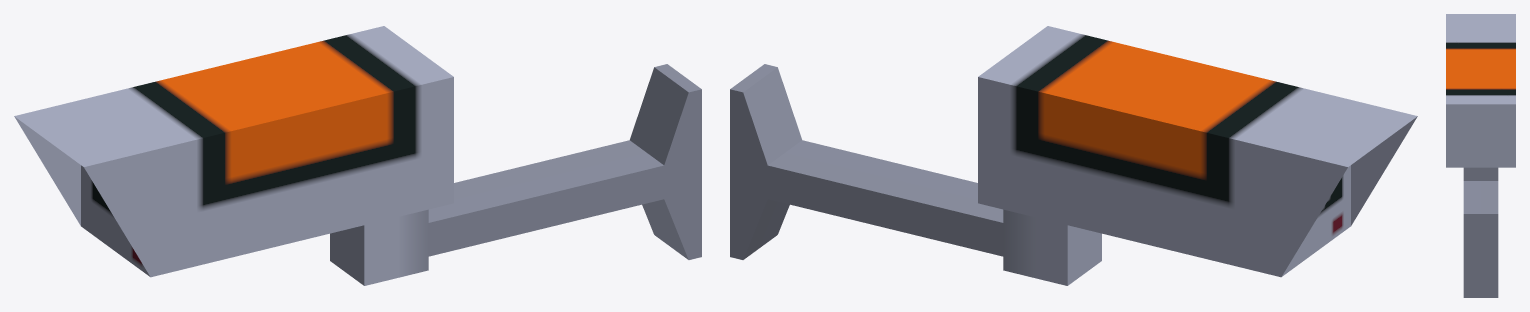
The model's file is Camera.fbx.
3 views of the same model, side by side, from view 1: azimuth 30°, elevation 25°; view 2: azimuth 150°, elevation 25°; view 3: azimuth 270°, elevation 25° (orthographic). The views are drawn at different scales.
Visible parts, largest first — view 1: Куб.208, Куб.207; view 2: Куб.208, Куб.207; view 3: Куб.208, Куб.207.
Part boxes in pixels (x1,y1,x2,y2): Куб.208: (14,26,453,277); Куб.207: (330,64,701,285); Куб.208: (978,26,1417,277); Куб.207: (730,64,1101,285); Куб.208: (1446,14,1515,167); Куб.207: (1463,167,1498,297).
Bounding box in the file's own units: 106 × 41.15 × 20.18.
